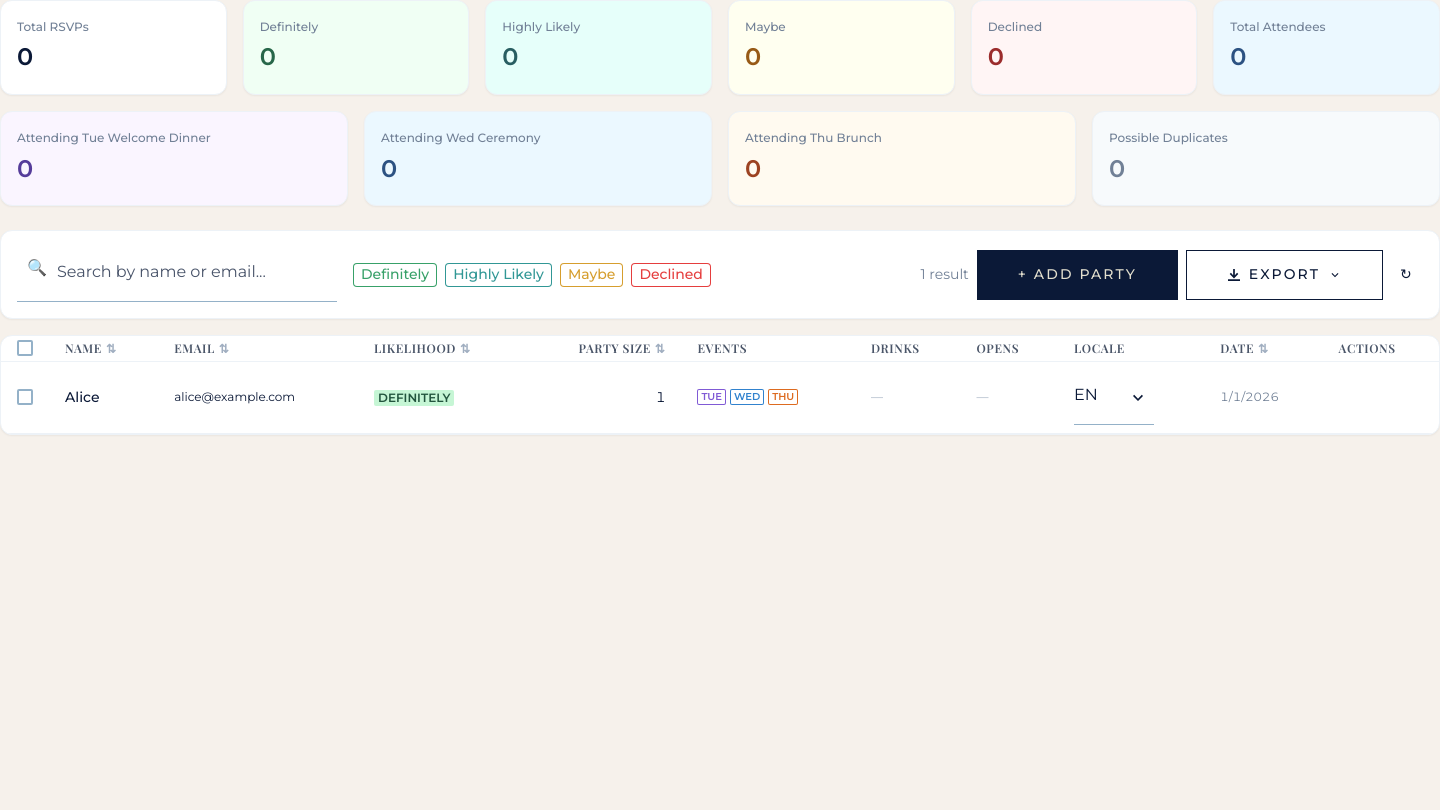
Test: RsvpDashboard — guest editing › opens the detail modal for the clicked party
The width and height of the screenshot is (1440, 810).
Click the text "Alice" at (82, 397), box [65,389,100,405]
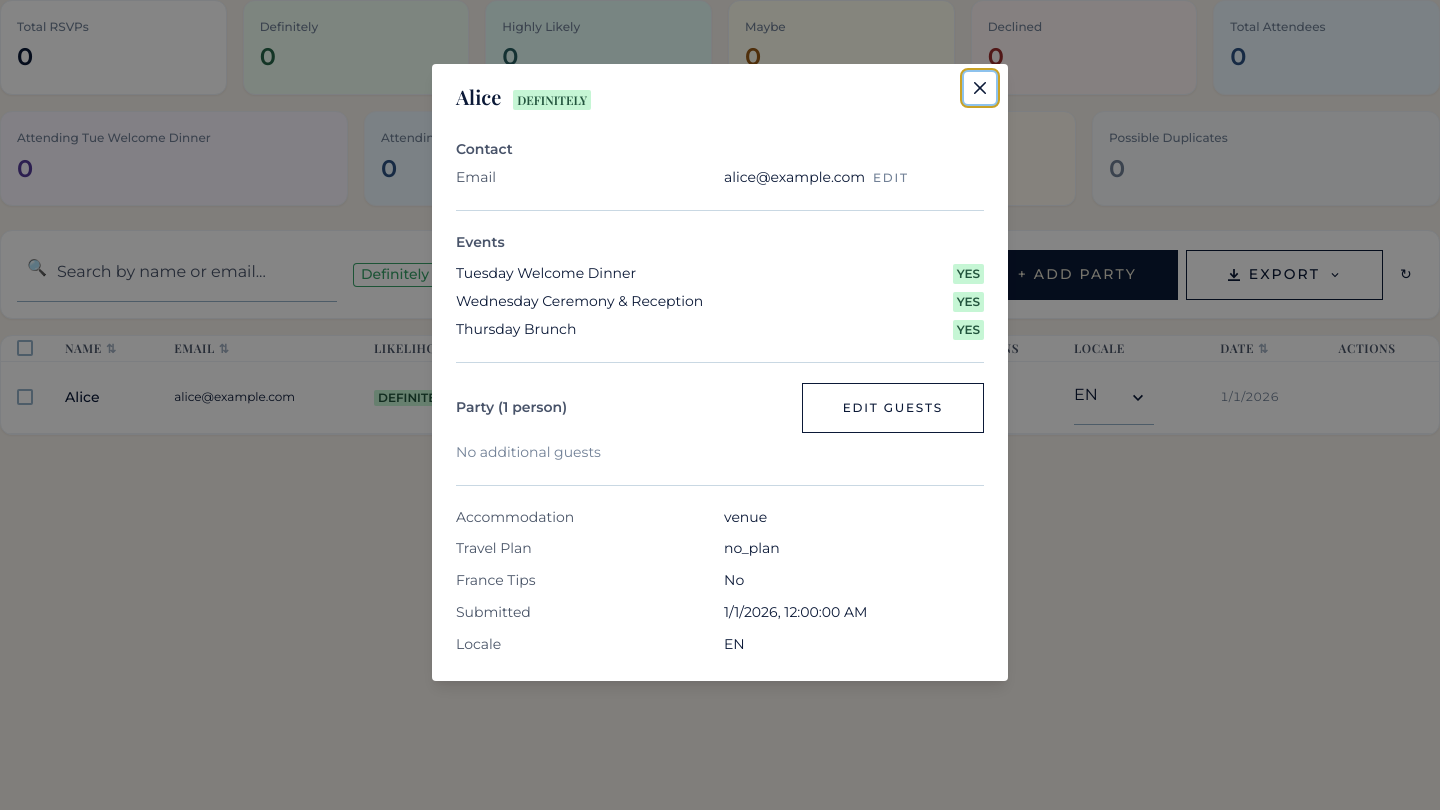
Now the button "Edit Guests" is shown, box [802,383,984,433]
